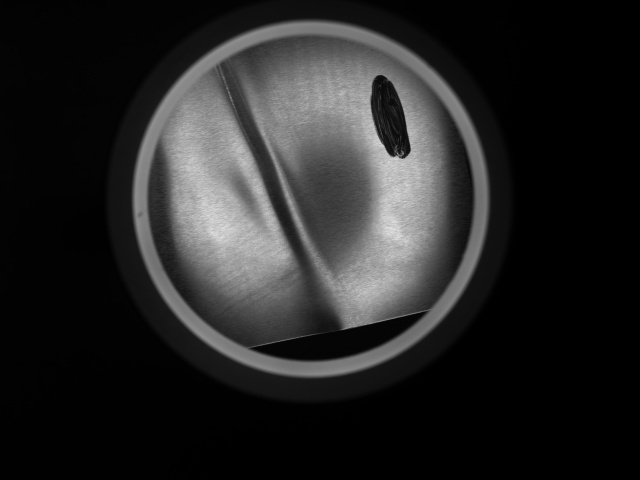zang_wu: (362, 66, 414, 167)
zhe_zhou: (189, 67, 431, 331)
